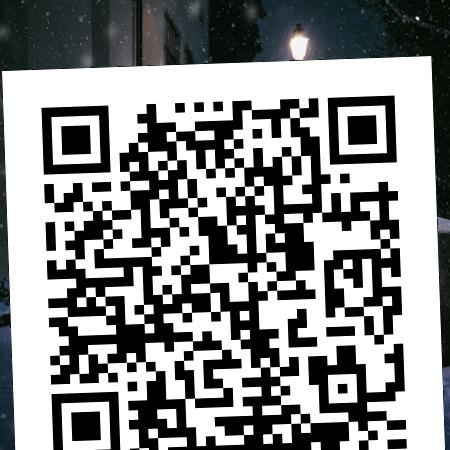qr_code: (2, 31, 445, 450)
